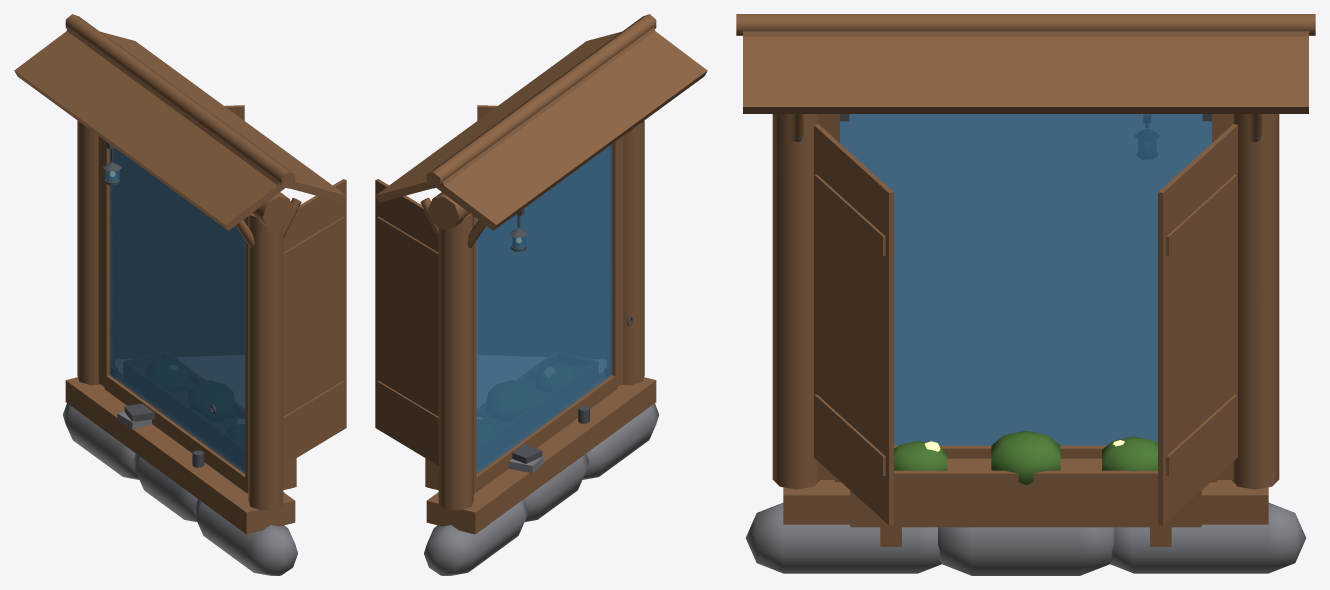
Rendered from window-frame.glb.
3 views of the same model, side by side, from view 1: azimuth 30°, elevation 25°; view 2: azimuth 150°, elevation 25°; view 3: azimuth 270°, elevation 25° (orthographic). The views are drawn at different scales.
Parts seen in each view (by area): view 1: Mesh_GlassPane, Mesh_RoofSlopeB, Mesh_FramePillarR, Mesh_TimberSill, Mesh_ShutterR_Plank2, Mesh_FramePillarL, Mesh_ShutterR_Plank3, Mesh_RoofSlopeF, Mesh_RoofRidge, Mesh_StoneBaseR, Mesh_SashL, Mesh_ShutterR_Plank1 (+8 smaller); view 2: Mesh_GlassPane, Mesh_RoofSlopeB, Mesh_FramePillarL, Mesh_TimberSill, Mesh_ShutterL_Plank2, Mesh_FramePillarR, Mesh_ShutterL_Plank3, Mesh_RoofSlopeF, Mesh_RoofRidge, Mesh_StoneBaseL, Mesh_SashR, Mesh_ShutterL_Plank1 (+7 smaller); view 3: Mesh_GlassPane, Mesh_RoofSlopeF, Mesh_PlanterFront, Mesh_FramePillarL, Mesh_FramePillarR, Mesh_RoofRidge, Mesh_ShutterL_Plank3, Mesh_ShutterR_Plank3, Mesh_StoneBaseL, Mesh_StoneBaseR, Mesh_StoneBaseC, Mesh_ShutterL_Plank1 (+14 smaller).
Boxes of the visible parts, bbox=[...] form: Mesh_GlassPane: bbox=[109, 148, 245, 474]; Mesh_RoofSlopeB: bbox=[14, 31, 285, 230]; Mesh_FramePillarR: bbox=[248, 213, 283, 510]; Mesh_TimberSill: bbox=[65, 377, 295, 534]; Mesh_ShutterR_Plank2: bbox=[296, 195, 321, 458]; Mesh_FramePillarL: bbox=[77, 120, 100, 385]; Mesh_ShutterR_Plank3: bbox=[321, 179, 346, 442]; Mesh_RoofSlopeF: bbox=[66, 27, 346, 202]; Mesh_RoofRidge: bbox=[65, 14, 295, 188]; Mesh_StoneBaseR: bbox=[193, 499, 297, 575]; Mesh_SashL: bbox=[98, 136, 112, 388]; Mesh_ShutterR_Plank1: bbox=[283, 214, 295, 465]; Mesh_GlassPane: bbox=[476, 144, 612, 474]; Mesh_RoofSlopeB: bbox=[436, 31, 707, 230]; Mesh_FramePillarL: bbox=[438, 213, 473, 510]; Mesh_TimberSill: bbox=[426, 377, 656, 534]; Mesh_ShutterL_Plank2: bbox=[400, 195, 425, 458]; Mesh_FramePillarR: bbox=[621, 120, 644, 385]; Mesh_ShutterL_Plank3: bbox=[375, 179, 400, 442]; Mesh_RoofSlopeF: bbox=[375, 27, 655, 202]; Mesh_RoofRidge: bbox=[426, 14, 656, 188]; Mesh_StoneBaseL: bbox=[424, 499, 528, 575]; Mesh_SashR: bbox=[609, 136, 623, 388]; Mesh_ShutterL_Plank1: bbox=[426, 214, 438, 465]; Mesh_GlassPane: bbox=[840, 114, 1211, 445]; Mesh_RoofSlopeF: bbox=[743, 36, 1308, 113]; Mesh_PlanterFront: bbox=[850, 470, 1201, 527]; Mesh_FramePillarL: bbox=[1232, 114, 1279, 489]; Mesh_FramePillarR: bbox=[772, 114, 819, 489]; Mesh_RoofRidge: bbox=[736, 14, 1315, 35]; Mesh_ShutterL_Plank3: bbox=[1158, 169, 1187, 525]; Mesh_ShutterR_Plank3: bbox=[864, 169, 893, 525]; Mesh_StoneBaseL: bbox=[1110, 503, 1306, 573]; Mesh_StoneBaseR: bbox=[745, 503, 941, 573]; Mesh_StoneBaseC: bbox=[938, 527, 1113, 575]; Mesh_ShutterL_Plank1: bbox=[1208, 124, 1237, 479].
Bounding box in the file's own units: 1.01 × 2.29 × 2.15.
3 materials, 3 textured.
